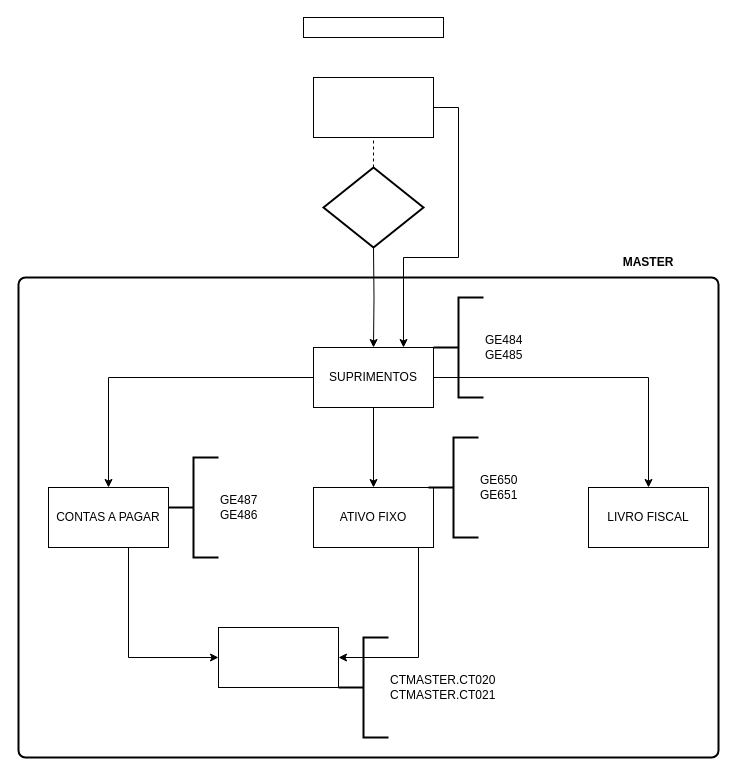
The diagram is 736 pixels wide and 776 high, and some of its shapes have lost their labels. The centre of each missing label's shape, as x and y in pixels:
CONTABILIDADE: the point at 278,657
ERP: the point at 373,207
NF-e de Fornecedores: the point at 373,27
SEFAZ/XML: the point at 373,107
